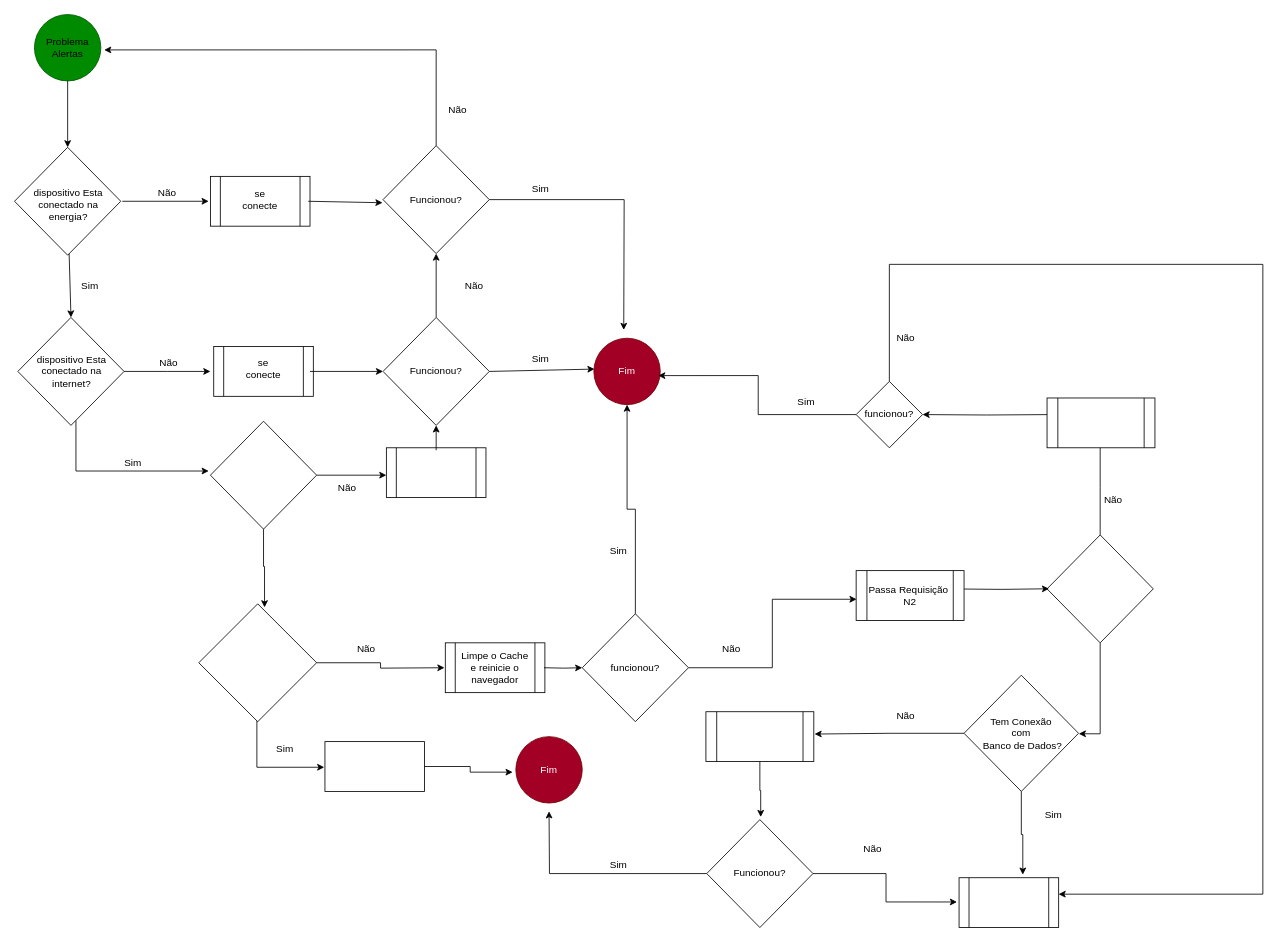
The diagram is 1284 pixels wide and 942 high, and some of its shapes have lost their labels. The shapes that lost their labels are listed below. From the top down, each one's centre as x and y in pixels, then its label:
At (x=1100, y=422): "Corrija e coloque no ar".
At (x=263, y=474): "Esta logado?".
At (x=436, y=472): "Faça login".
At (x=1099, y=588): "Site está no ar corretamente?".
At (x=257, y=662): "Aparece os alertas e histórico de alertas?".
At (x=759, y=736): "Corrija Conexão".
At (x=374, y=766): "Funcionando como deveria".
At (x=1008, y=902): "Passa Requisição N3".
